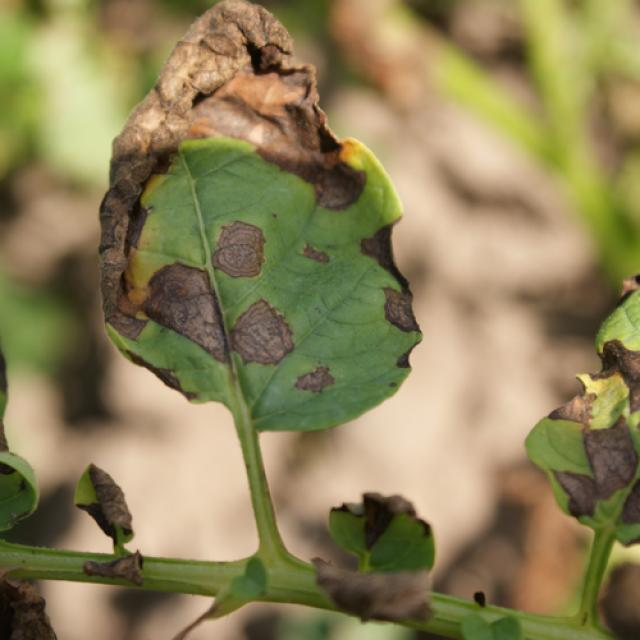earlyblight: (100, 0, 364, 338), (143, 262, 294, 363), (212, 221, 264, 278), (304, 161, 364, 209), (385, 288, 420, 332), (294, 366, 334, 393), (302, 246, 329, 263)
